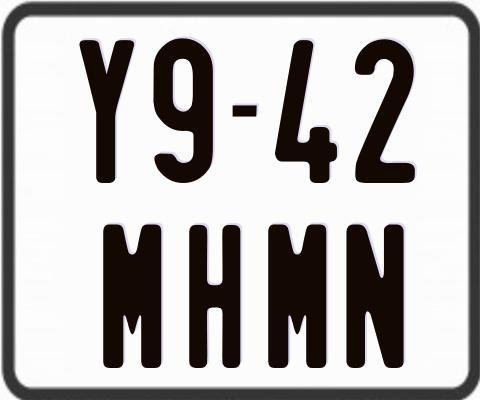2: (353, 39, 418, 185)
4: (272, 40, 337, 184)
9: (150, 37, 213, 182)
H: (188, 225, 245, 368)
M: (268, 224, 328, 369), (101, 222, 161, 366)
N: (345, 223, 403, 368)
Y: (78, 39, 134, 188)
